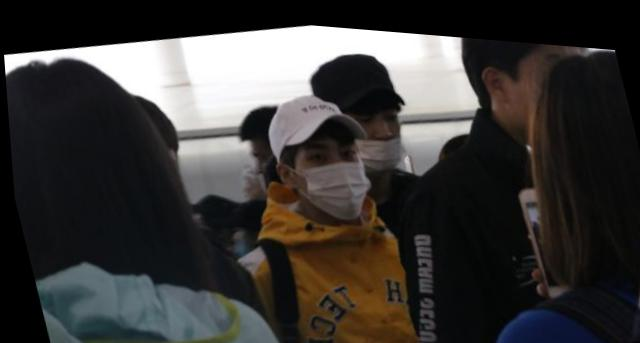OK: (287, 124, 374, 211)
WRONG: (337, 89, 413, 164)
